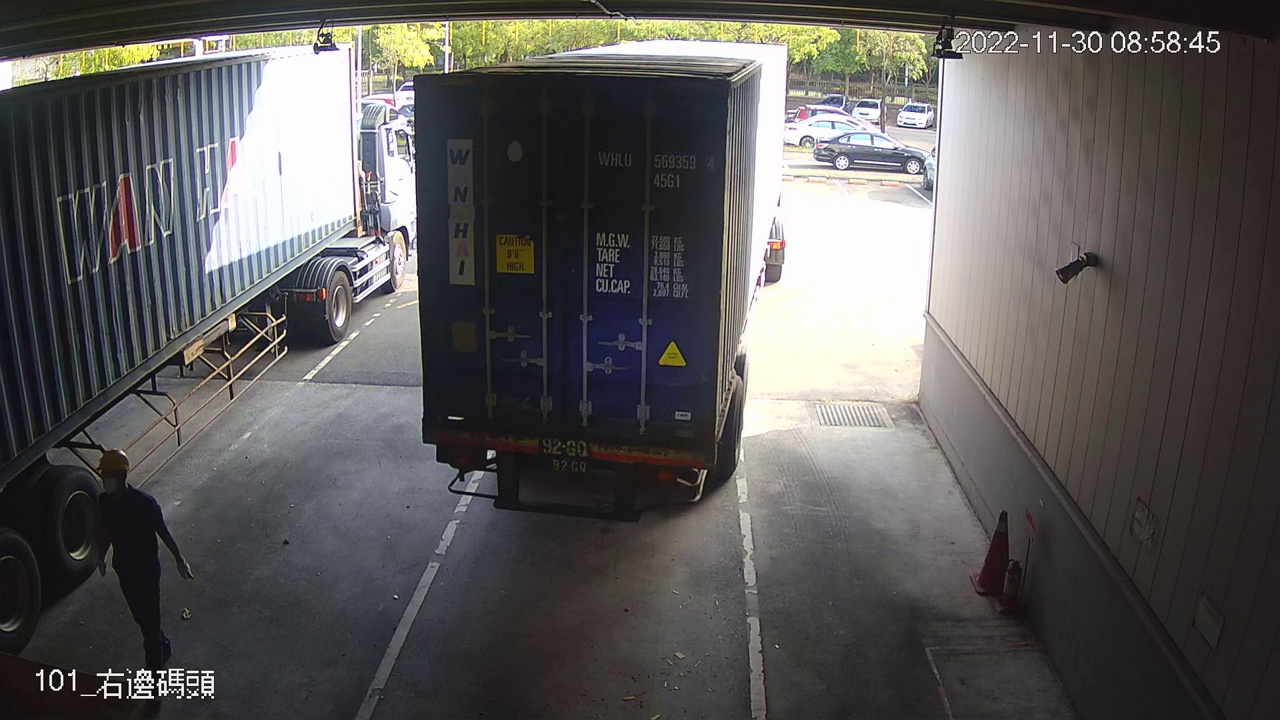container: (592, 145, 722, 193)
